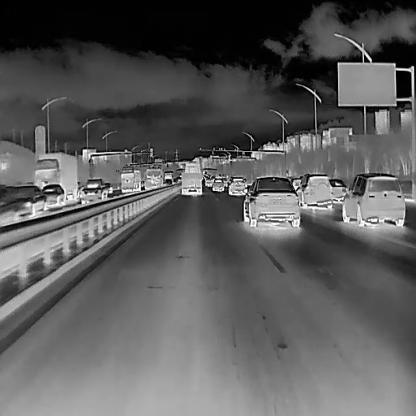car: (341, 170, 406, 227), (241, 176, 300, 225), (33, 151, 77, 189), (295, 172, 333, 210), (10, 183, 44, 215), (81, 176, 109, 204), (180, 162, 204, 194), (38, 181, 66, 206), (119, 165, 141, 193), (328, 177, 347, 201), (144, 168, 163, 191), (228, 175, 248, 195), (163, 169, 174, 186), (209, 180, 224, 192), (104, 182, 113, 194), (204, 177, 212, 186)
